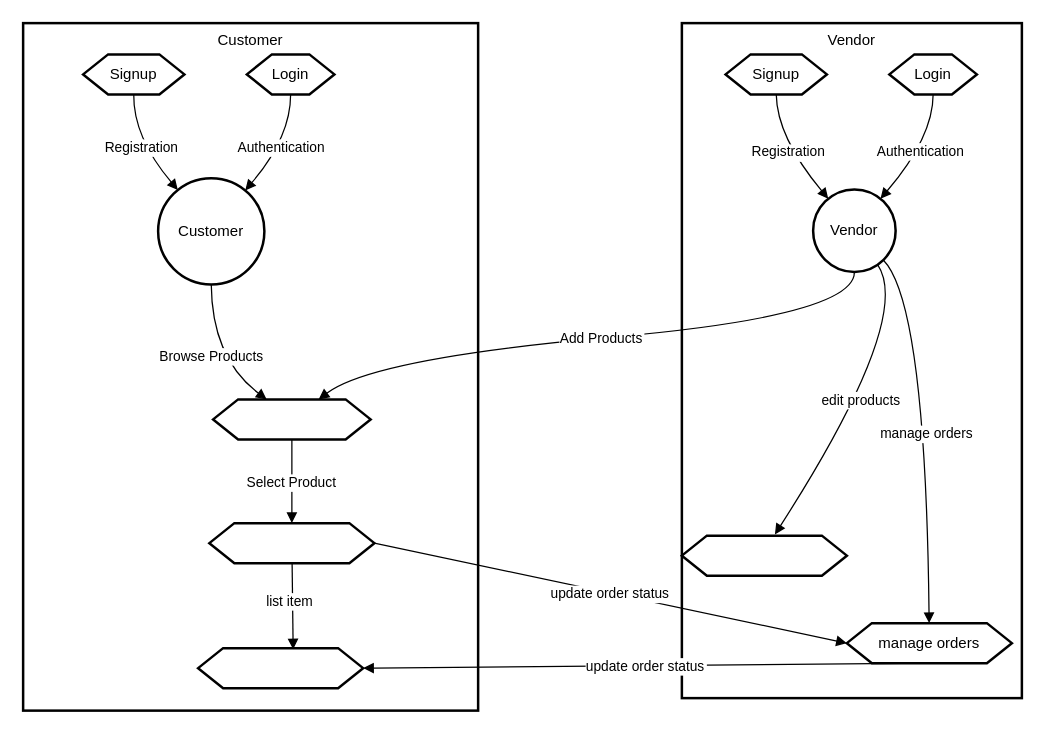
Image size: 1044x733. Some labels were removed from this diagram. The shapes that lost their labels are listed below. From the top down, each one's centre as x and y in pixels, then its label:
At (x=291, y=419): "View Product".
At (x=291, y=542): "Order Product".
At (x=764, y=555): "manage product".
At (x=280, y=667): "Order List".
